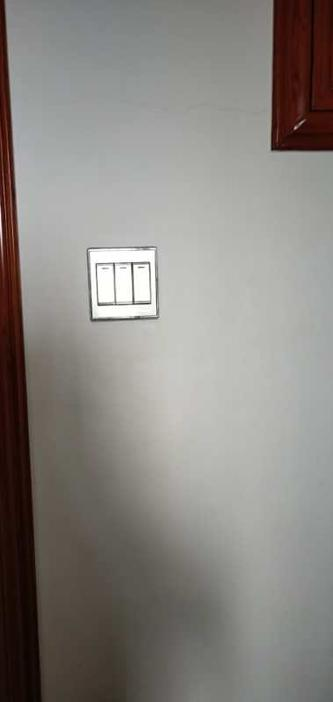switch: (113, 259, 135, 307), (94, 262, 114, 307), (133, 261, 150, 306)
